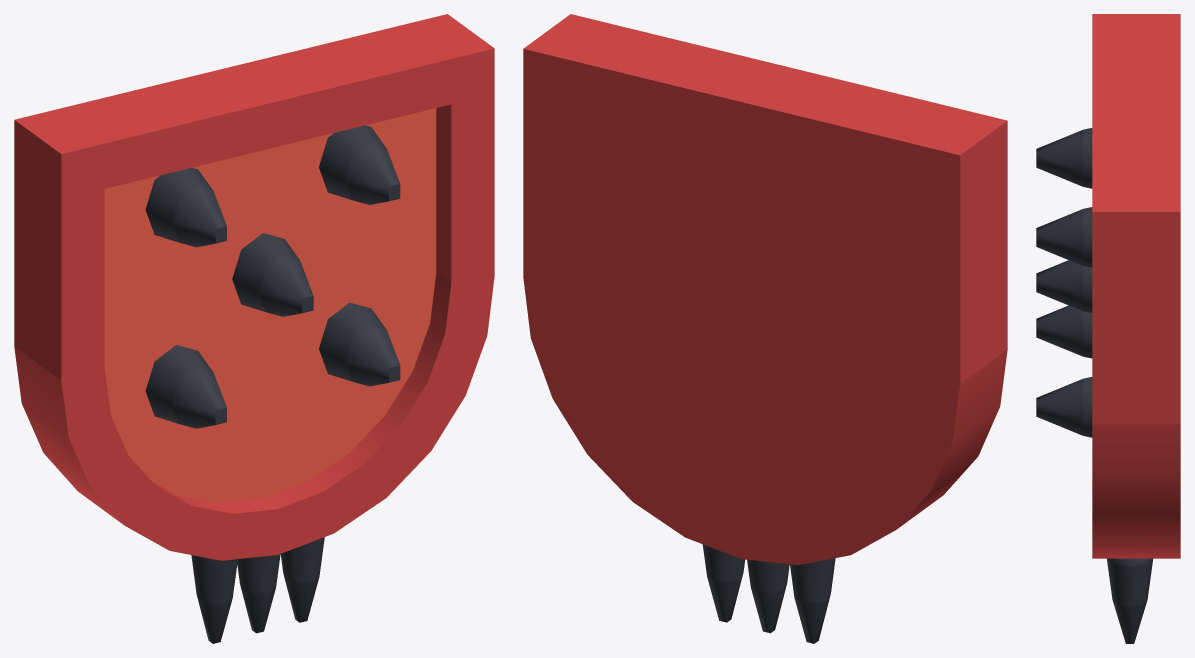
The model's file is shield.obj.
The picture shows the model from 3 angles, left to right: view 1: azimuth 30°, elevation 25°; view 2: azimuth 150°, elevation 25°; view 3: azimuth 270°, elevation 25°; orthographic projection. The views are drawn at different scales.
Parts seen in each view (by area): view 1: mergedBlocks; view 2: mergedBlocks; view 3: mergedBlocks.
Boxes of the visible parts, box(x1,y1,x2,y2) form: mergedBlocks: box(14, 14, 494, 643); mergedBlocks: box(523, 14, 1007, 643); mergedBlocks: box(1036, 14, 1180, 643).
Size of the model in its own units: 1 by 1.2 by 0.3081.
